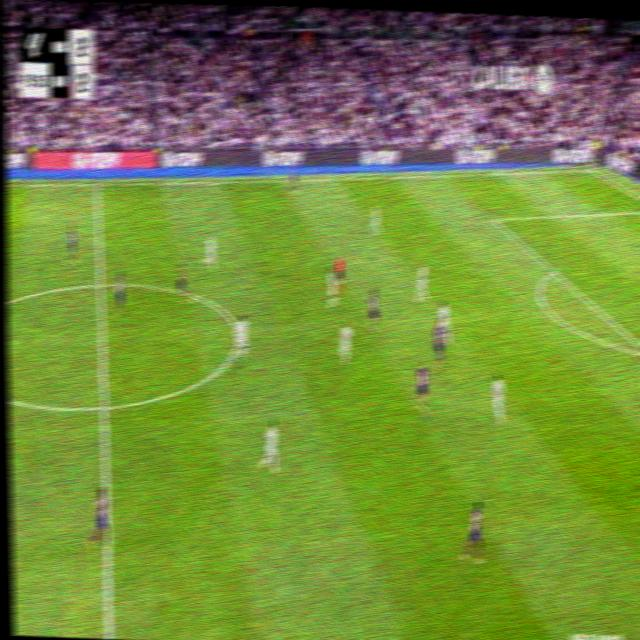bigarea_top_inner: (488, 211, 498, 226)
corner: (583, 163, 596, 174)
halfcircle_bottom: (95, 391, 112, 421)
halfcircle_top: (92, 271, 107, 295)
midline_top_intersection: (92, 177, 101, 191)
top_arc_area_intersection: (547, 261, 558, 278)
